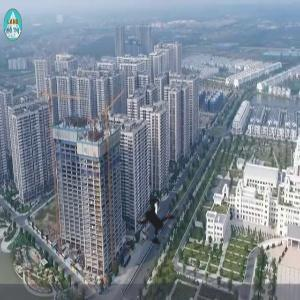drone: (113, 176, 206, 269)
